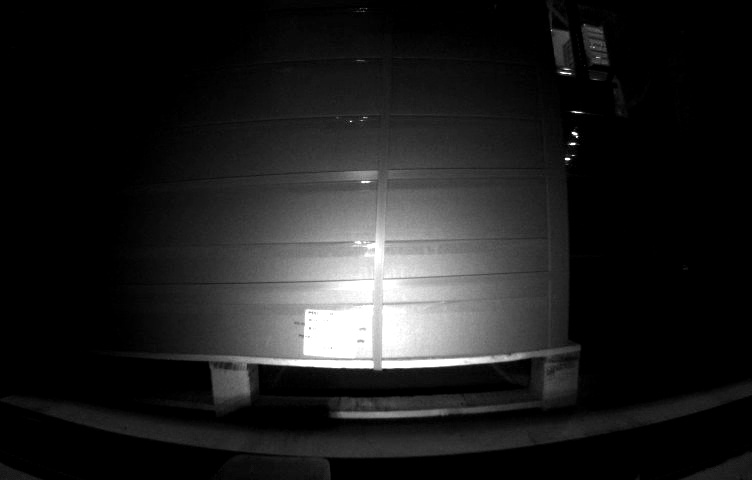True Barcode: (303, 308, 356, 359)
